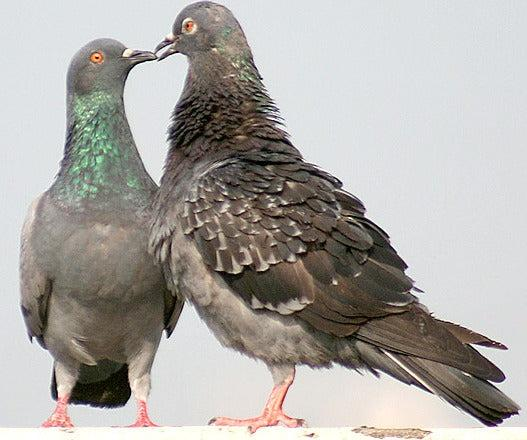Flying Rat: (159, 4, 502, 429), (19, 29, 160, 425)
